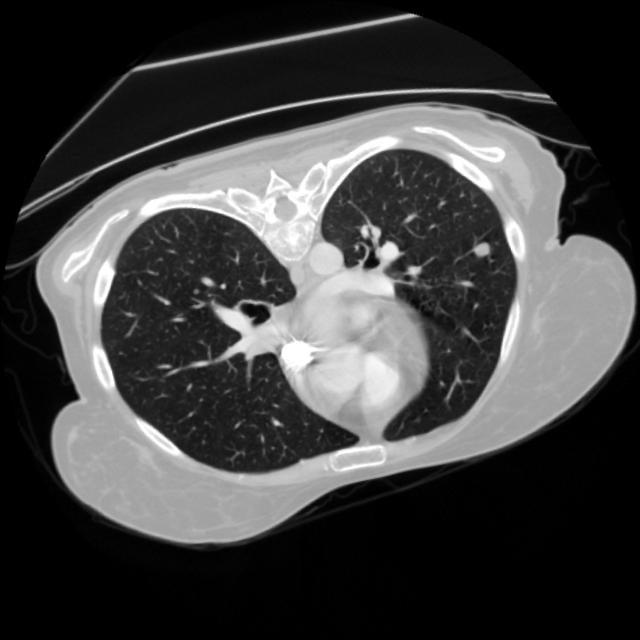nodule: (461, 232, 498, 270)
